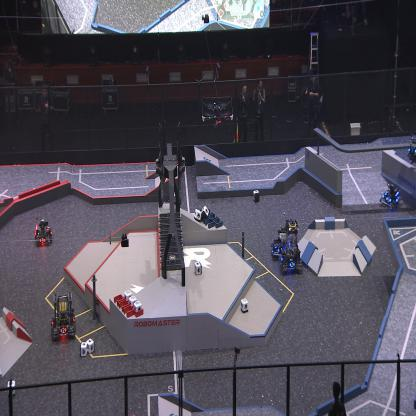car: (279, 217, 304, 273), (50, 291, 76, 339), (271, 222, 291, 259), (380, 182, 402, 210), (34, 216, 53, 246)
